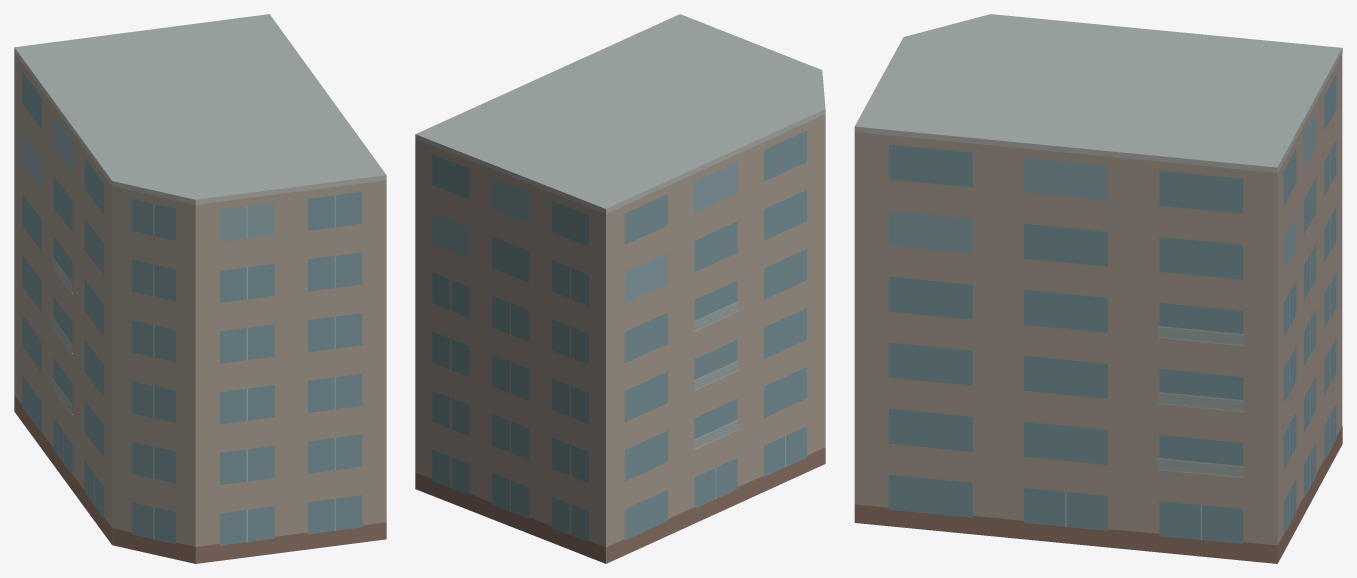
Rendered from survey-upis-32930052.glb.
3 views of the same model, side by side, from view 1: azimuth 30°, elevation 25°; view 2: azimuth 150°, elevation 25°; view 3: azimuth 270°, elevation 25° (orthographic). The views are drawn at different scales.
Visible parts, largest first — view 1: survey-upis-32930052.tmp; view 2: survey-upis-32930052.tmp; view 3: survey-upis-32930052.tmp.
Part boxes in pixels (x1,y1,x2,y2): survey-upis-32930052.tmp: (14,14,386,563); survey-upis-32930052.tmp: (415,14,825,563); survey-upis-32930052.tmp: (854,14,1342,563).
Bounding box in the file's own units: 14.57 × 17.52 × 19.56.
